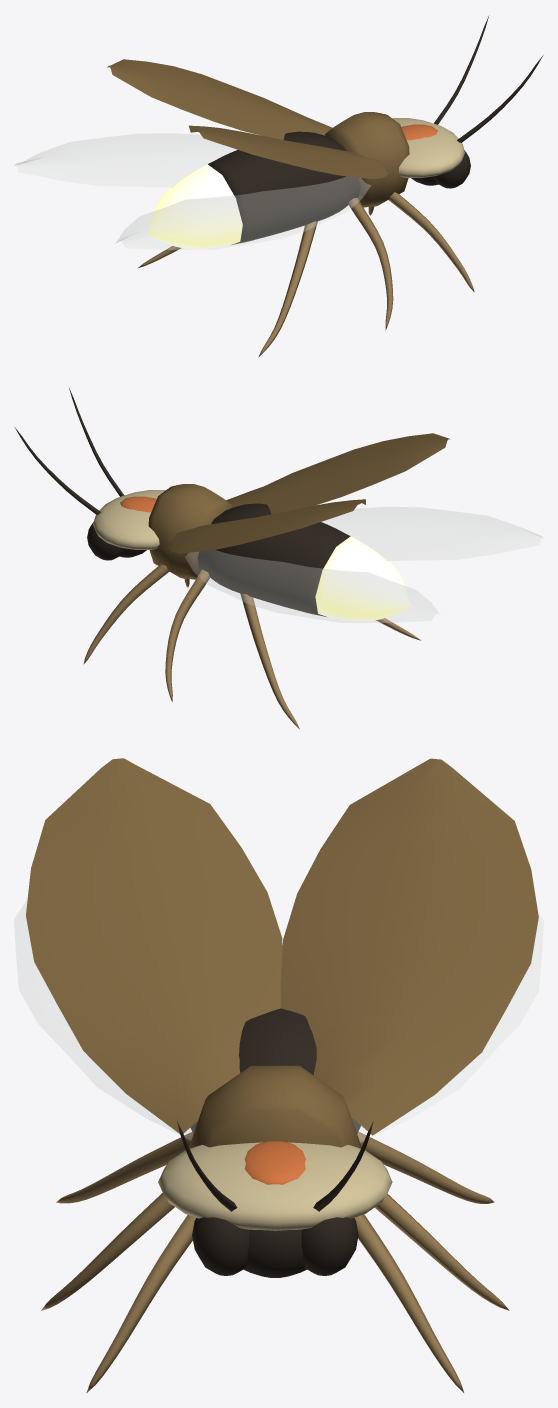
The model's file is m3_firefly.glb.
3 renders of one model, top to bottom at view 1: azimuth 30°, elevation 25°; view 2: azimuth 150°, elevation 25°; view 3: azimuth 270°, elevation 25°, orthographic. The views are drawn at different scales.
Parts seen in each view (by area): view 1: m3_firefly_ir_membrane, m3_firefly_ir_chitin, m3_firefly_ir_chitin_dark, m3_firefly_firefly_lantern, m3_firefly_ir_chitin_leg, m3_firefly_ir_chitin_pale, m3_firefly_ir_orange; view 2: m3_firefly_ir_membrane, m3_firefly_ir_chitin, m3_firefly_ir_chitin_dark, m3_firefly_firefly_lantern, m3_firefly_ir_chitin_leg, m3_firefly_ir_chitin_pale, m3_firefly_ir_orange; view 3: m3_firefly_ir_chitin, m3_firefly_ir_chitin_leg, m3_firefly_ir_chitin_pale, m3_firefly_ir_chitin_dark, m3_firefly_ir_membrane, m3_firefly_ir_orange.
Boxes of the visible parts, bbox=[...] form: m3_firefly_ir_membrane: bbox=[14, 133, 370, 249]; m3_firefly_ir_chitin: bbox=[107, 59, 409, 207]; m3_firefly_ir_chitin_dark: bbox=[208, 15, 543, 245]; m3_firefly_firefly_lantern: bbox=[147, 164, 242, 248]; m3_firefly_ir_chitin_leg: bbox=[137, 192, 474, 357]; m3_firefly_ir_chitin_pale: bbox=[392, 118, 464, 177]; m3_firefly_ir_orange: bbox=[401, 124, 437, 140]; m3_firefly_ir_membrane: bbox=[185, 507, 543, 622]; m3_firefly_ir_chitin: bbox=[148, 433, 449, 579]; m3_firefly_ir_chitin_dark: bbox=[15, 388, 350, 617]; m3_firefly_firefly_lantern: bbox=[315, 536, 411, 621]; m3_firefly_ir_chitin_leg: bbox=[83, 564, 420, 729]; m3_firefly_ir_chitin_pale: bbox=[93, 490, 165, 549]; m3_firefly_ir_orange: bbox=[120, 496, 156, 512]; m3_firefly_ir_chitin: bbox=[26, 758, 538, 1148]; m3_firefly_ir_chitin_leg: bbox=[41, 1131, 509, 1393]; m3_firefly_ir_chitin_pale: bbox=[158, 1142, 392, 1230]; m3_firefly_ir_chitin_dark: bbox=[177, 1008, 373, 1277]; m3_firefly_ir_membrane: bbox=[14, 899, 543, 1142]; m3_firefly_ir_orange: bbox=[244, 1141, 305, 1184].
Size of the model in its own units: 0.0248 by 0.0118 by 0.014.
